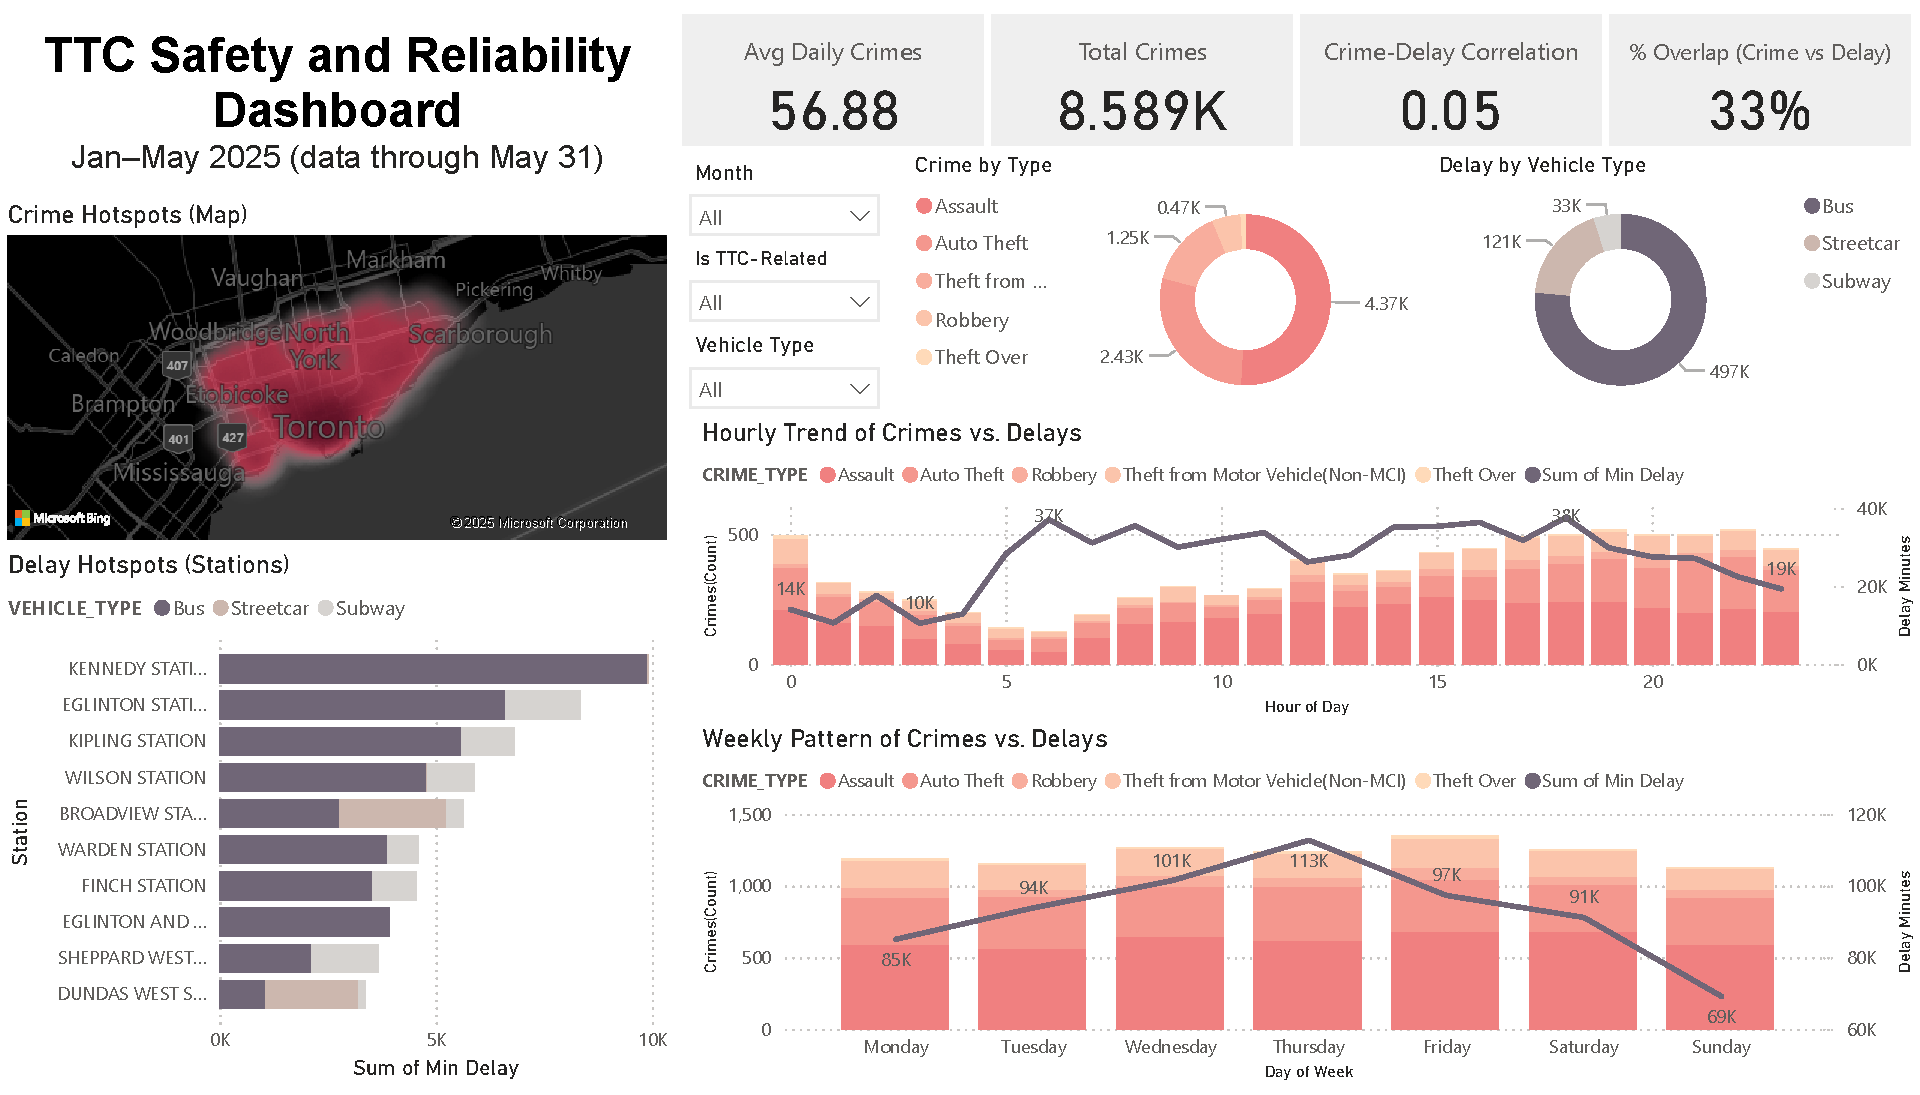

Layout of this report page (visuals, bound fields, positions):
{"tool":"powerbi","page":{"name":"Page 1","canvas":[1280,720],"ordinal":0},"visuals":[{"type":"map","title":"Crime Hotspots (Map)","fields":{"Y":["CrimeData_CentroidLatLong.Crime per Neighbourhood.Centroid_Lat"],"X":["CrimeData_CentroidLatLong.Crime per Neighbourhood.Centroid_Lon"],"Size":["Count(CrimeData_CentroidLatLong.EVENT_UNIQUE_ID)"]},"box":[0,128.3,449.8,232.3],"z":0},{"type":"cardVisual","fields":{"Data":["CrimeData_CentroidLatLong.Avg Crimes per Day","Count(CrimeData_CentroidLatLong.EVENT_UNIQUE_ID)","Crime Data.Correlation (HOD)","Crime Data.Overlap %"]},"box":[449.8,0,830.7,97.3],"z":1000},{"type":"lineStackedColumnComboChart","title":"Weekly Pattern of Crimes vs. Delays","fields":{"Series":["CrimeData_CentroidLatLong.CRIME_TYPE"],"Y":["CountNonNull(CrimeData_CentroidLatLong.EVENT_UNIQUE_ID)"],"Category":["CrimeData_CentroidLatLong.OCC_DOW"],"Y2":["Sum(Delay Data Dup.Min Delay)"]},"box":[463.3,476.8,817.2,243.1],"z":2000},{"type":"donutChart","title":"Crime by Type","fields":{"Y":["CountNonNull(Crime Data.EVENT_UNIQUE_ID)"],"Category":["Crime Data.CRIME_TYPE"]},"box":[605.1,97.3,348.5,178.3],"z":3000},{"type":"barChart","title":"Delay Hotspots (Stations)","fields":{"Category":["Delay Data.Station"],"Y":["Sum(Delay Data.Min Delay)"],"Series":["Delay Data.VEHICLE_TYPE"]},"box":[0,360.6,449.8,359.3],"z":4000},{"type":"lineStackedColumnComboChart","title":"Hourly Trend of Crimes vs. Delays","fields":{"Category":["CrimeData_CentroidLatLong.OCC_HOD"],"Y":["CountNonNull(CrimeData_CentroidLatLong.EVENT_UNIQUE_ID)"],"Y2":["Sum(Delay Data.Min Delay)"],"Series":["CrimeData_CentroidLatLong.CRIME_TYPE"]},"box":[463.3,272.8,817.2,204],"z":5000},{"type":"donutChart","title":"Delay by Vehicle Type","fields":{"Y":["Sum(Delay Data.Min Delay)"],"Category":["Delay Data.VEHICLE_TYPE"]},"box":[953.6,97.3,326.9,178.3],"z":6000},{"type":"textbox","box":[0,9.5,449.8,118.9],"z":7000},{"type":"slicer","title":"Is TTC-Related","fields":{"Values":["Crime Data.TTC_Related_Label"]},"box":[449.8,155.3,145.9,56.7],"z":8000},{"type":"slicer","fields":{"Values":["CrimeData_CentroidLatLong.OCC_DATE.Variation.Date Hierarchy.Month"]},"box":[449.8,97.3,145.9,58.1],"z":9000},{"type":"slicer","fields":{"Values":["Delay Data.VEHICLE_TYPE"]},"box":[449.8,212.1,145.9,56.7],"z":9001}]}

Visuals, with their boxes in screenshot pixels (x1, y1, x2, y2), scaled from the page's 1280x720 canvas onto the 1920x1095 screenshot:
"Crime Hotspots (Map)" map: locate(0, 195, 675, 548)
cardVisual - CrimeData_CentroidLatLong.Avg Crimes per Day x Count(CrimeData_CentroidLatLong.EVENT_UNIQUE_ID): locate(675, 0, 1919, 148)
"Weekly Pattern of Crimes vs. Delays" lineStackedColumnComboChart: locate(695, 725, 1919, 1094)
"Crime by Type" donutChart: locate(908, 148, 1430, 419)
"Delay Hotspots (Stations)" barChart: locate(0, 548, 675, 1094)
"Hourly Trend of Crimes vs. Delays" lineStackedColumnComboChart: locate(695, 415, 1919, 725)
"Delay by Vehicle Type" donutChart: locate(1430, 148, 1919, 419)
textbox: locate(0, 14, 675, 195)
"Is TTC-Related" slicer: locate(675, 236, 894, 322)
slicer - CrimeData_CentroidLatLong.OCC_DATE.Variation.Date Hierarchy.Month: locate(675, 148, 894, 236)
slicer - Delay Data.VEHICLE_TYPE: locate(675, 323, 894, 409)
